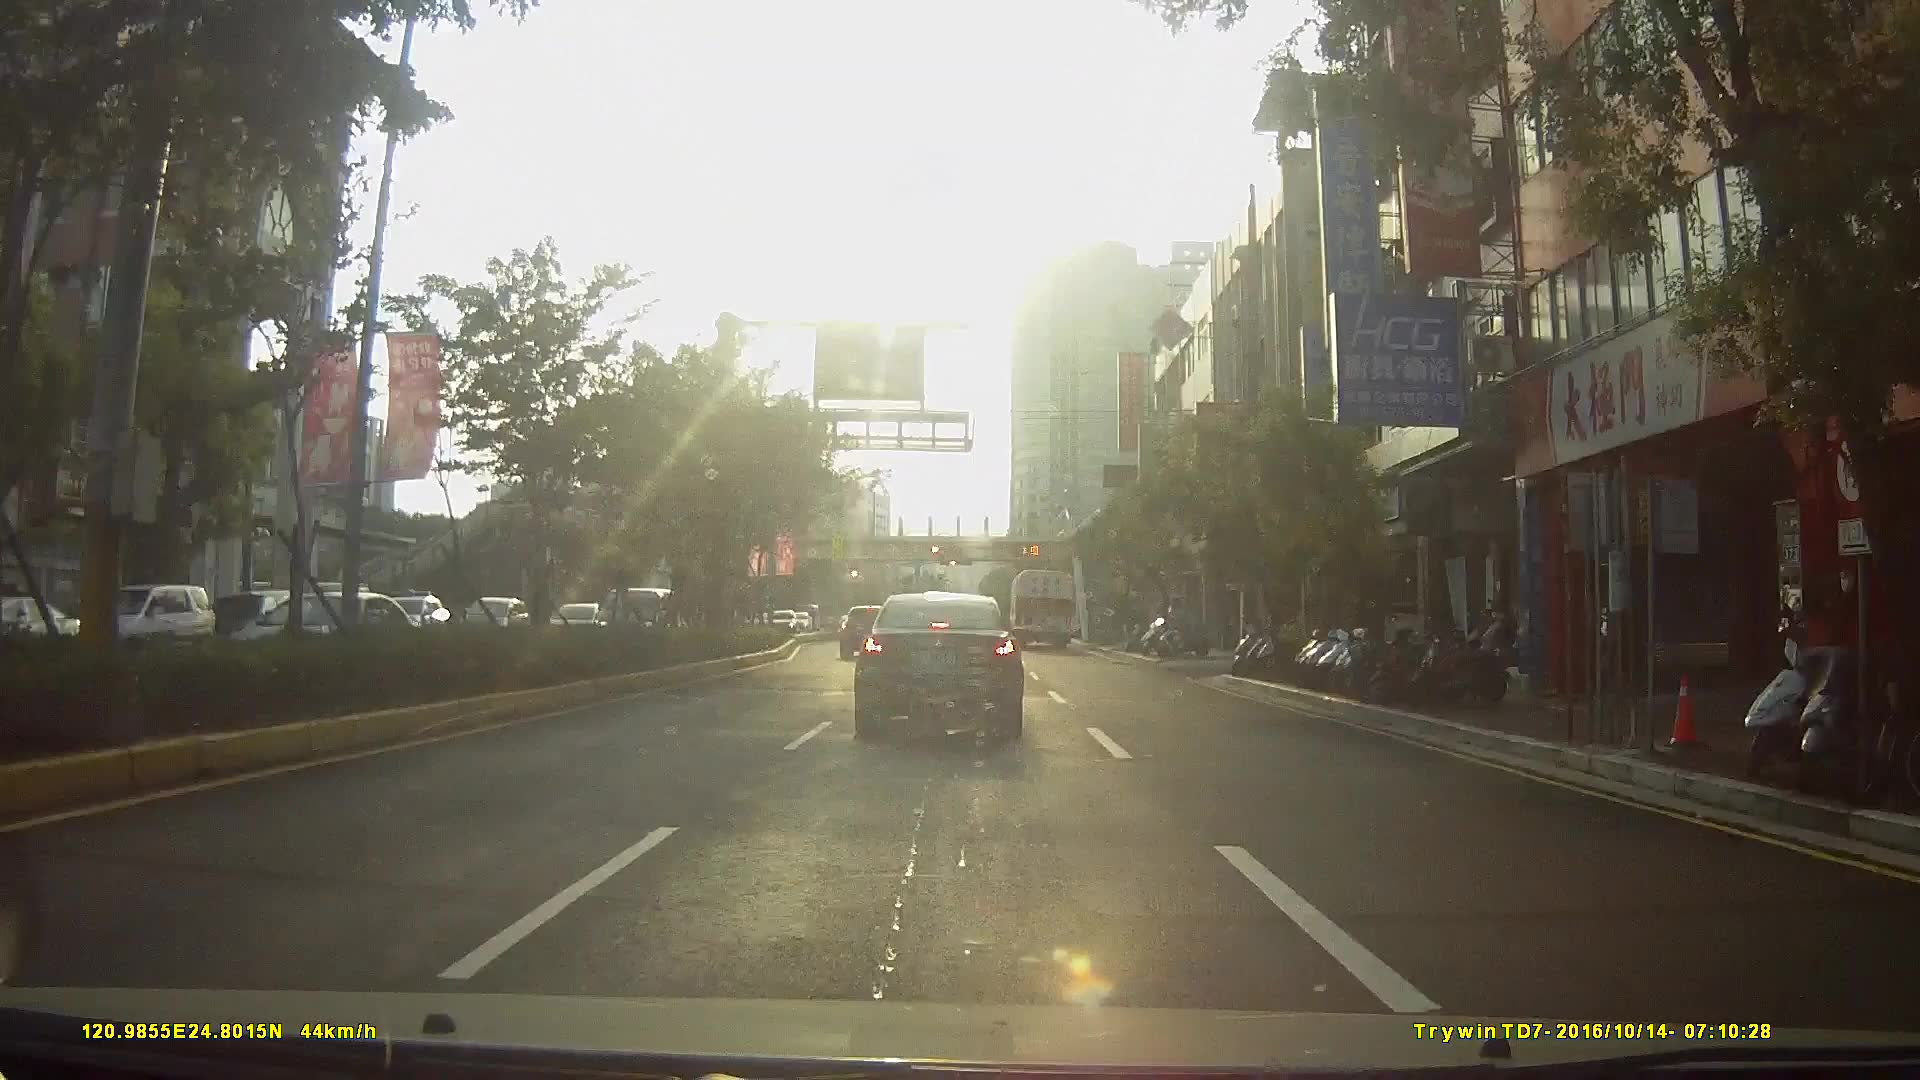vehicle: (852, 592, 1025, 744), (71, 583, 208, 657), (200, 589, 313, 654), (1007, 568, 1080, 651), (603, 587, 696, 646), (836, 604, 891, 659)
